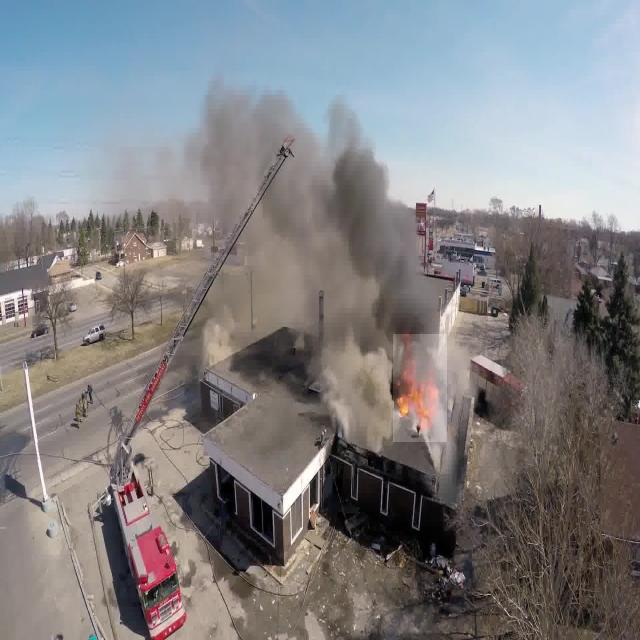Fire: (393, 334, 447, 442)
Smoke: (195, 77, 499, 489)
